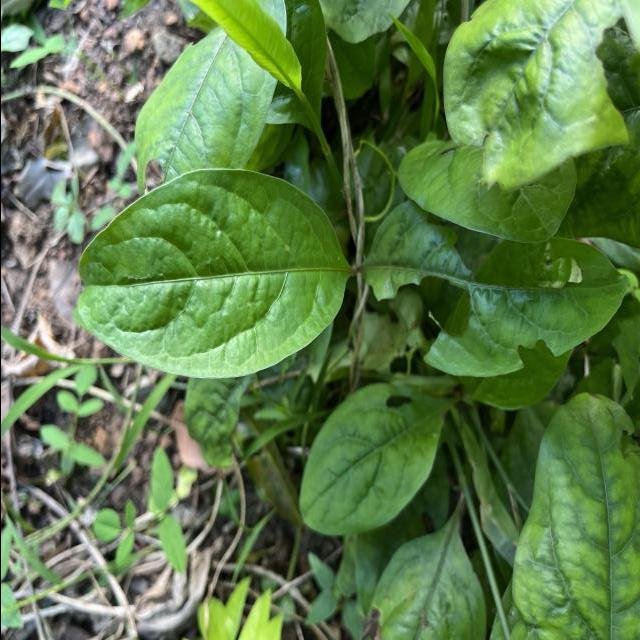Plumbago indica: (69, 164, 360, 384), (510, 383, 640, 640), (295, 375, 451, 541)
